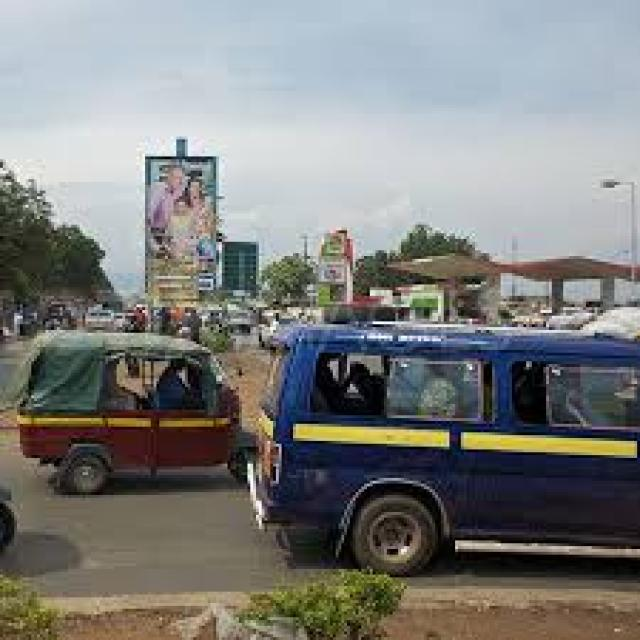matatu: (244, 304, 640, 596)
tuktuk: (3, 305, 251, 495)
